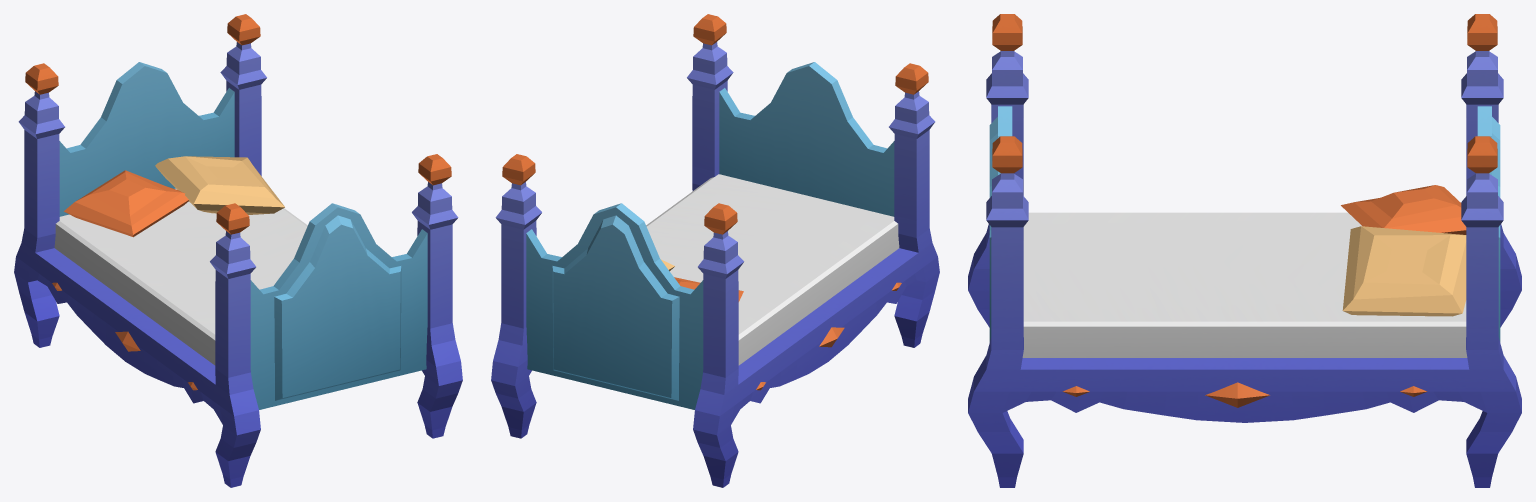
Rendered from bed.fbx.
3 views of the same model, side by side, from view 1: azimuth 30°, elevation 25°; view 2: azimuth 150°, elevation 25°; view 3: azimuth 270°, elevation 25° (orthographic). The views are drawn at different scales.
Parts seen in each view (by area): view 1: Cube.002, Poduszka1, Poduszka2; view 2: Cube.002; view 3: Cube.002, Poduszka1, Poduszka2.
Boxes of the visible parts, x1=… form: Cube.002: x1=14, y1=14, x2=462, y2=487; Poduszka1: x1=155, y1=156, x2=284, y2=214; Poduszka2: x1=64, y1=170, x2=188, y2=237; Cube.002: x1=491, y1=14, x2=939, y2=487; Cube.002: x1=968, y1=14, x2=1521, y2=487; Poduszka1: x1=1342, y1=226, x2=1466, y2=316; Poduszka2: x1=1341, y1=185, x2=1466, y2=234.
Bounding box in the file's own units: 106 × 118 × 172.
